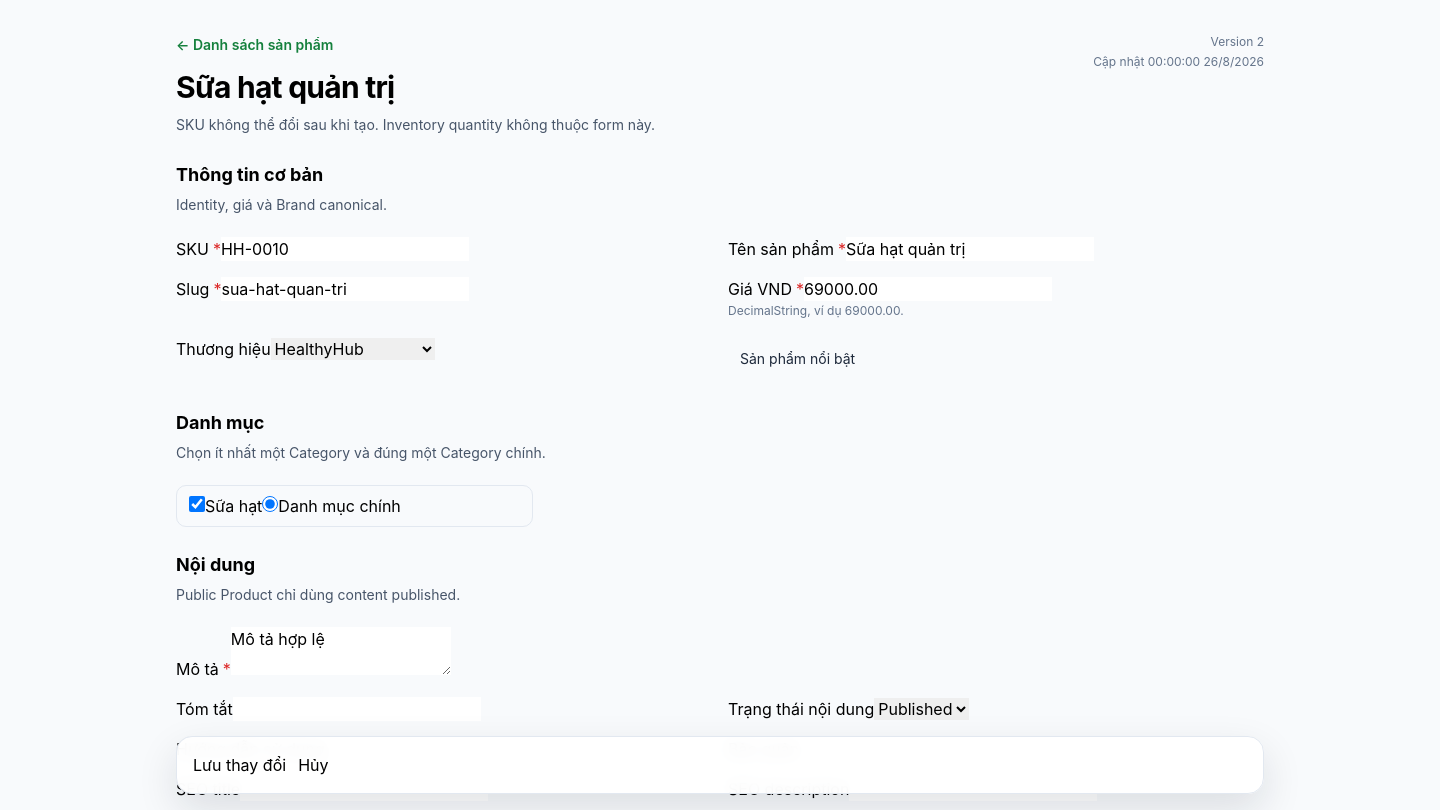
Test case: Admin Product form › loads an authoritative edit aggregate and saves with current version
The width and height of the screenshot is (1440, 810).
Replace the text in the field labelled "Tên sản phẩm*" with "Sữa hạt đã sửa" at (970, 249), box [846, 237, 1094, 261]
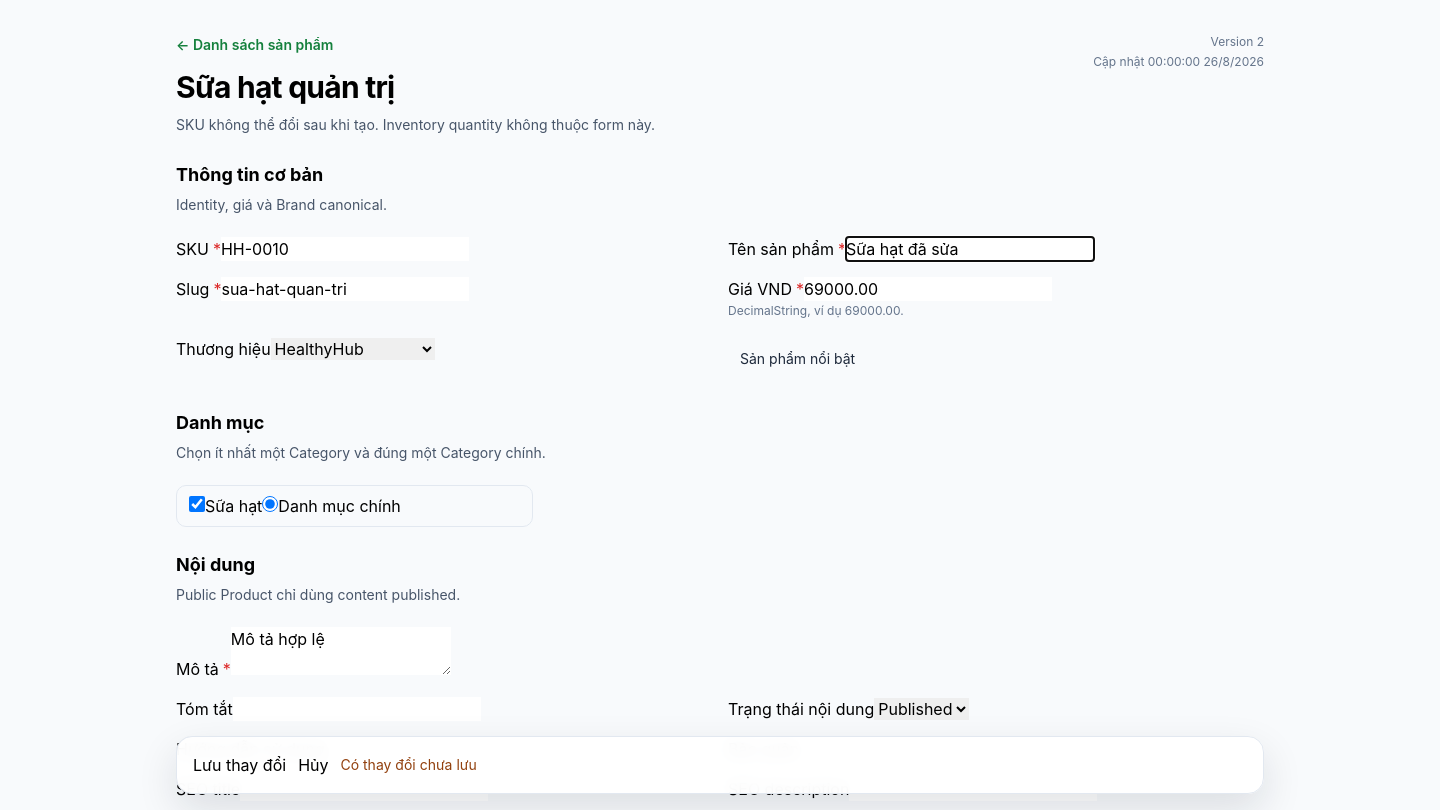
Click the button "Lưu thay đổi" at (240, 765), box [193, 753, 286, 777]
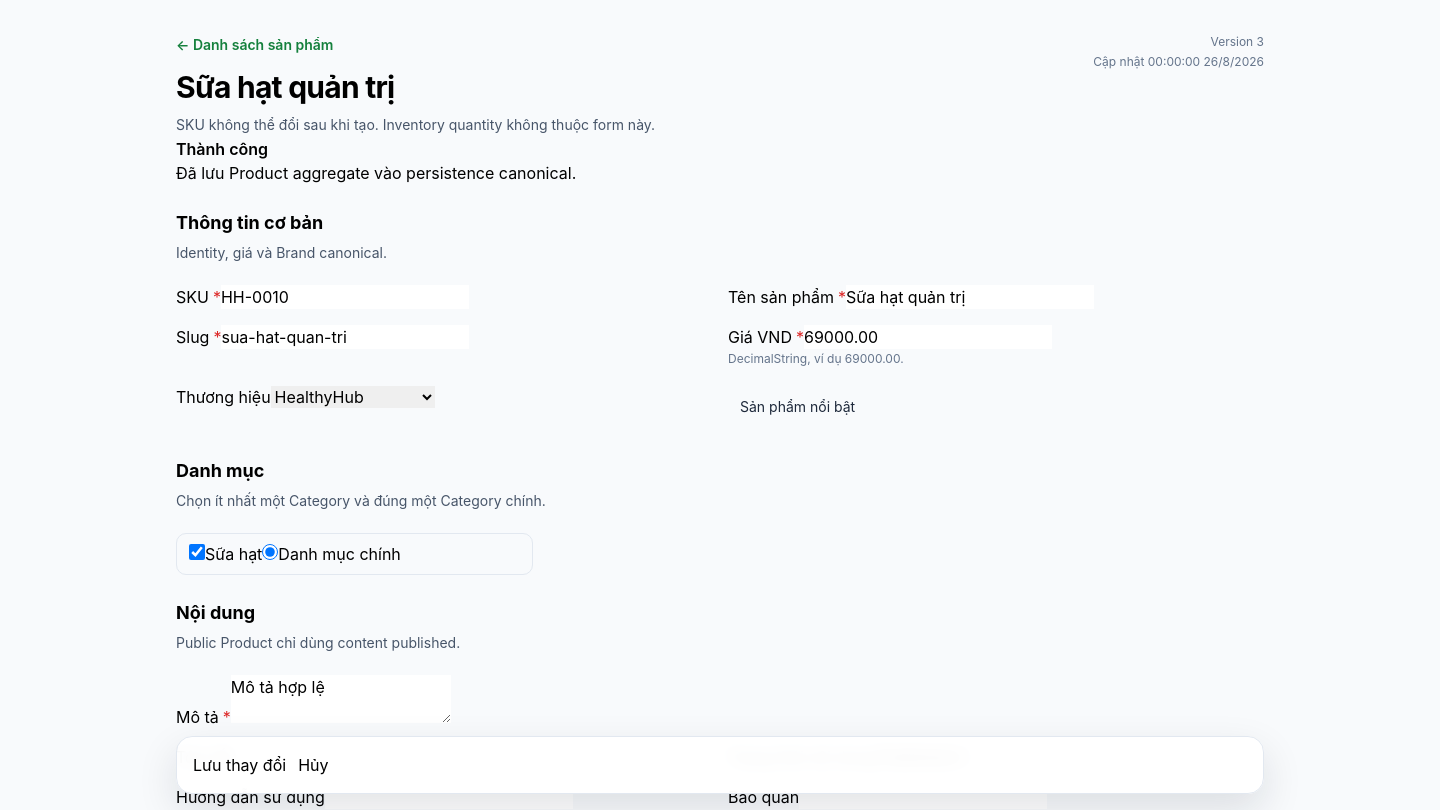
expect the text "Đã lưu Product aggregate vào persistence canonical." is shown: met, box [176, 163, 576, 183]
